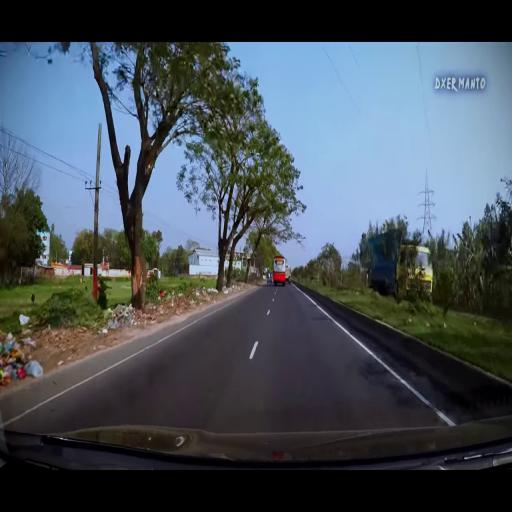bus: (273, 256, 287, 284)
truck: (368, 232, 435, 300)
